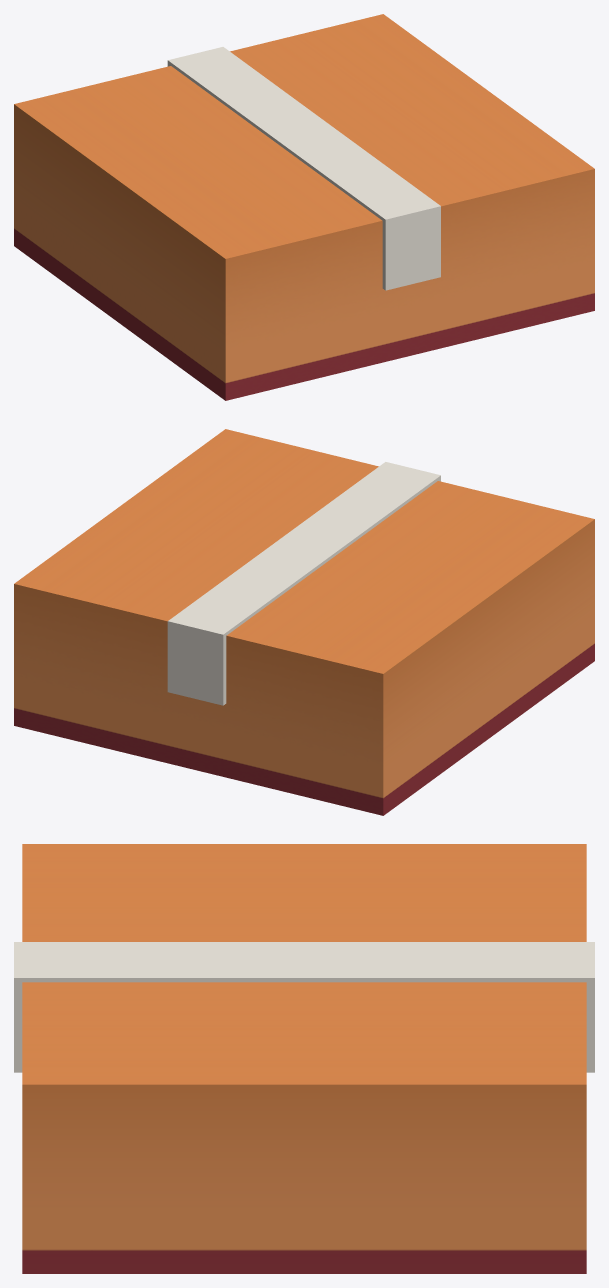
The model's file is Prop_Box03.fbx.
3 views of the same model, one above another, from view 1: azimuth 30°, elevation 25°; view 2: azimuth 150°, elevation 25°; view 3: azimuth 270°, elevation 25° (orthographic). The views are drawn at different scales.
Visible parts, largest first — view 1: Prop_Box03; view 2: Prop_Box03; view 3: Prop_Box03.
Part boxes in pixels (x1=…): Prop_Box03: x1=14, y1=14, x2=594, y2=400; Prop_Box03: x1=14, y1=429, x2=594, y2=815; Prop_Box03: x1=14, y1=844, x2=594, y2=1273.
Size of the model in its own units: 401 by 151 by 409.
